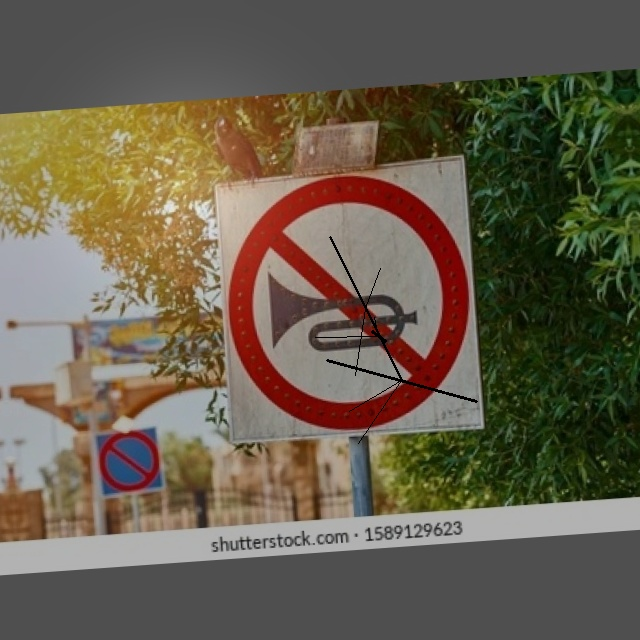Horn_Prohibited: (217, 164, 477, 439)
